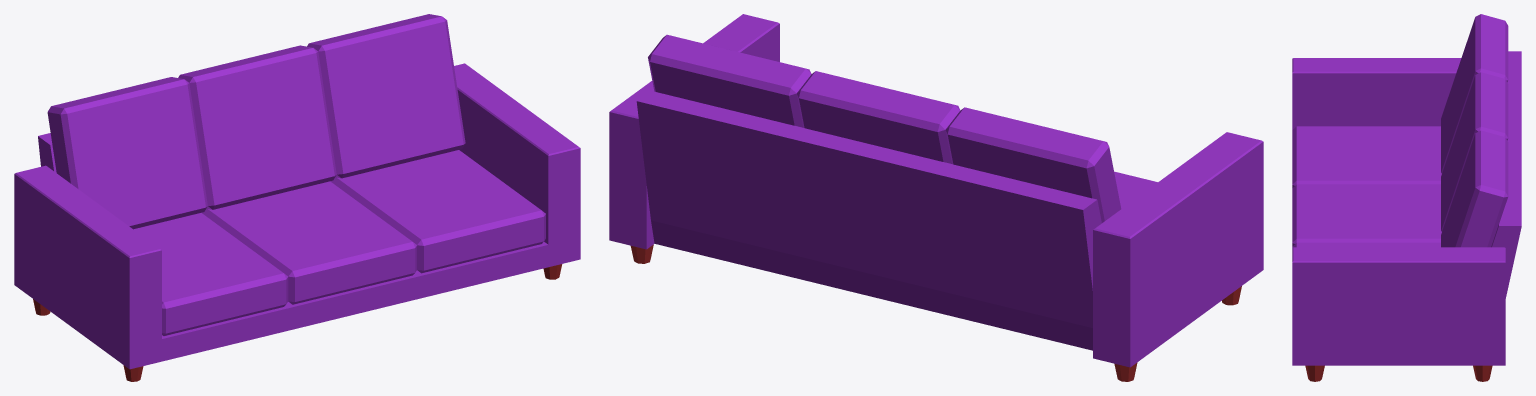
The model's file is SM_sofa.glb.
The picture shows the model from 3 angles, left to right: view 1: azimuth 30°, elevation 25°; view 2: azimuth 150°, elevation 25°; view 3: azimuth 270°, elevation 25°; orthographic projection. The views are drawn at different scales.
Visible parts, largest first — view 1: SM_ReposoIzq, SM_AlmohadonReposo.002, SM_AlmohadonReposo, SM_AlmohadonReposo.001, SM_AlmohadonBase, SM_AlmohadonBase.002, SM_ReposoDer, SM_AlmohadonBase.001, SM_Base; view 2: SM_Base, SM_ReposoIzq, SM_AlmohadonReposo.001, SM_AlmohadonReposo, SM_AlmohadonReposo.002, SM_ReposoDer, SM_AlmohadonBase.001; view 3: SM_ReposoDer, SM_ReposoIzq, SM_AlmohadonBase, SM_AlmohadonBase.001, SM_AlmohadonReposo, SM_AlmohadonReposo.001, SM_AlmohadonReposo.002, SM_Base, SM_AlmohadonBase.002, SM_Pata, SM_Pata.002.
Part boxes in pixels (<box>): SM_ReposoIzq: <box>14,165,161,369</box>; SM_AlmohadonReposo.002: <box>178,45,336,209</box>; SM_AlmohadonReposo: <box>307,14,465,178</box>; SM_AlmohadonReposo.001: <box>47,77,207,229</box>; SM_AlmohadonBase: <box>201,181,416,304</box>; SM_AlmohadonBase.002: <box>330,150,545,273</box>; SM_ReposoDer: <box>454,63,580,267</box>; SM_AlmohadonBase.001: <box>133,213,288,335</box>; SM_Base: <box>38,133,548,361</box>; SM_Base: <box>636,90,1101,350</box>; SM_ReposoIzq: <box>1093,132,1263,367</box>; SM_AlmohadonReposo.001: <box>945,107,1121,222</box>; SM_AlmohadonReposo: <box>648,34,811,127</box>; SM_AlmohadonReposo.002: <box>796,71,960,163</box>; SM_ReposoDer: <box>609,14,779,249</box>; SM_AlmohadonBase.001: <box>1114,171,1157,208</box>; SM_ReposoDer: <box>1292,247,1505,365</box>; SM_ReposoIzq: <box>1292,58,1461,129</box>; SM_AlmohadonBase: <box>1292,184,1441,246</box>; SM_AlmohadonBase.001: <box>1292,126,1441,187</box>; SM_AlmohadonReposo: <box>1441,130,1508,247</box>; SM_AlmohadonReposo.001: <box>1441,14,1508,173</box>; SM_AlmohadonReposo.002: <box>1441,72,1508,231</box>; SM_Base: <box>1491,51,1521,298</box>; SM_AlmohadonBase.002: <box>1292,242,1440,247</box>; SM_Pata: <box>1473,365,1492,381</box>; SM_Pata.002: <box>1305,365,1324,381</box>.
Bounding box in the file's own units: 2.1 × 0.8891 × 1.
